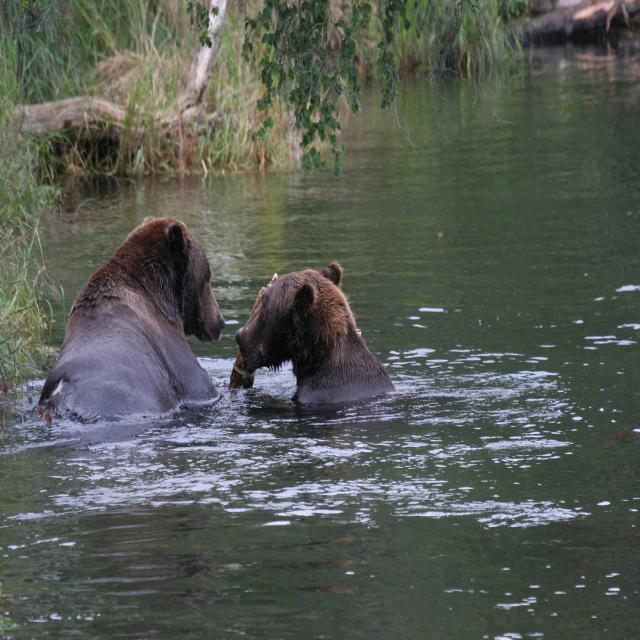bear face: (51, 217, 225, 415), (235, 266, 391, 397)
